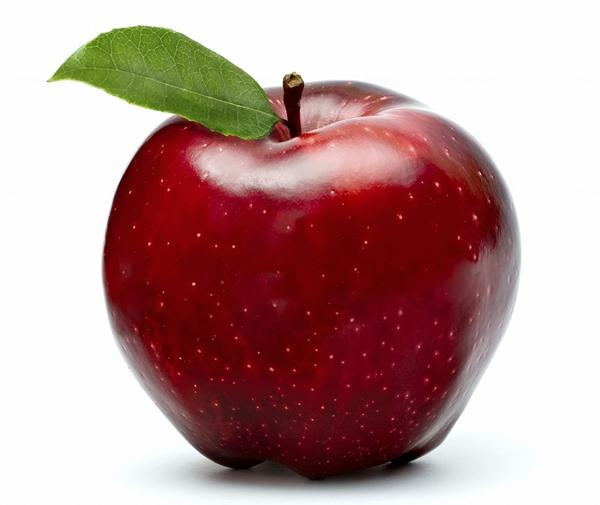apples: (35, 23, 525, 479)
